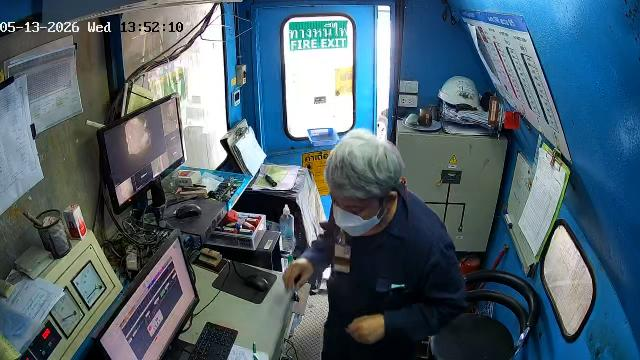Head: (325, 129, 404, 235)
People: (284, 130, 466, 359)
